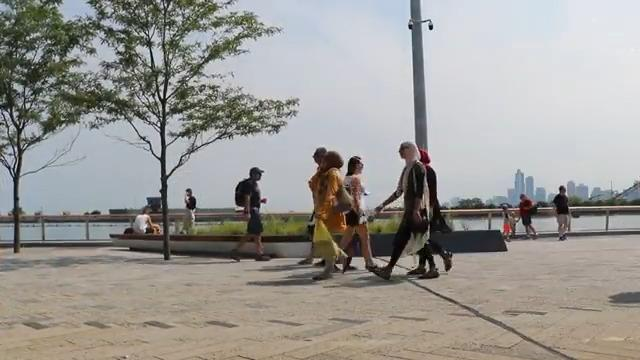no-helmet: (320, 150, 344, 170), (399, 141, 421, 162), (346, 156, 363, 177), (249, 167, 264, 181)
